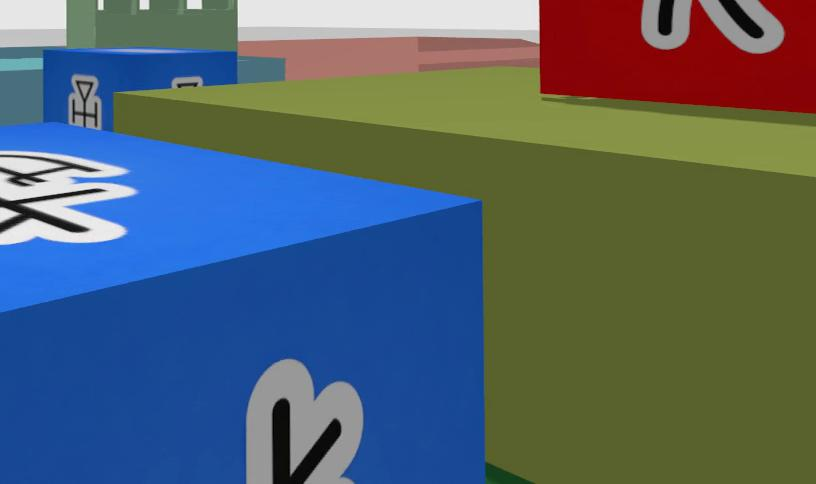KFS_FAKE: (523, 0, 815, 110), (641, 0, 783, 53)
KFS_REAL: (0, 117, 486, 479), (42, 46, 240, 125), (246, 359, 363, 483), (0, 152, 137, 244), (67, 75, 102, 129)
